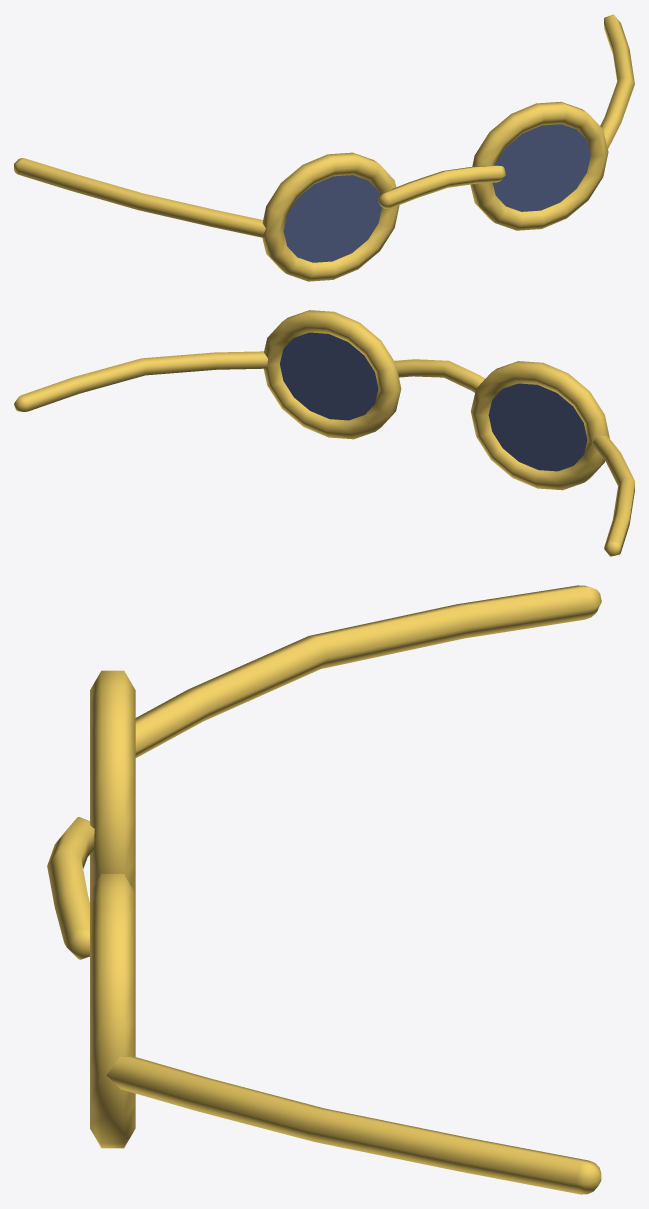
Rendered from dal_sunglasses.glb.
3 views of the same model, one above another, from view 1: azimuth 30°, elevation 25°; view 2: azimuth 150°, elevation 25°; view 3: azimuth 270°, elevation 25° (orthographic). The views are drawn at different scales.
Parts seen in each view (by area): view 1: dal_sunglasses_Head; view 2: dal_sunglasses_Head; view 3: dal_sunglasses_Head.
Part boxes in pixels (x1,y1,x2,y2): dal_sunglasses_Head: (14,14,634,281); dal_sunglasses_Head: (14,310,634,556); dal_sunglasses_Head: (47,585,601,1194).
Size of the model in its own units: 0.674 by 0.1296 by 0.2681.
